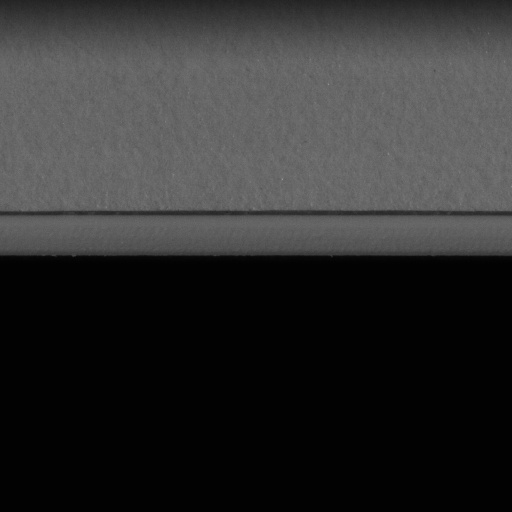jiaofeng: (1, 204, 511, 226)
